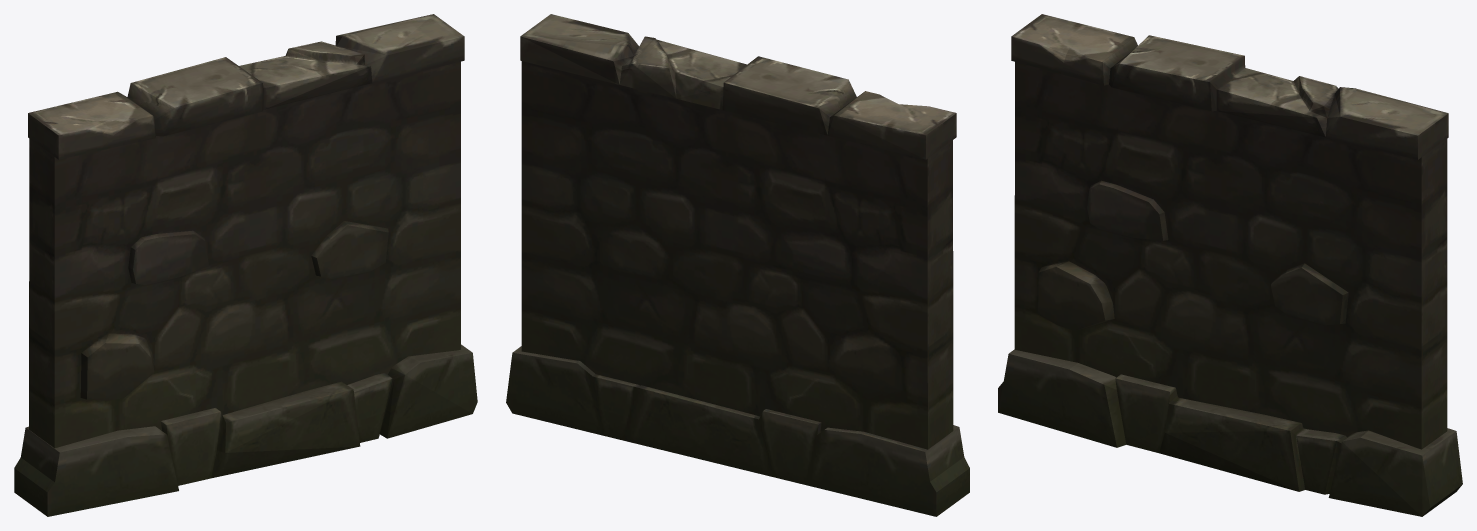
The model's file is humgraveyard_straight_01.fbx.
3 views of the same model, side by side, from view 1: azimuth 30°, elevation 25°; view 2: azimuth 150°, elevation 25°; view 3: azimuth 330°, elevation 25° (orthographic).
Visible parts, largest first — view 1: obj1.124; view 2: obj1.124; view 3: obj1.124.
Part boxes in pixels (x1=…): obj1.124: x1=14, y1=14, x2=477, y2=516; obj1.124: x1=506, y1=14, x2=969, y2=516; obj1.124: x1=998, y1=14, x2=1462, y2=516.
Bounding box in the file's own units: 4.67 × 4 × 0.7743.
